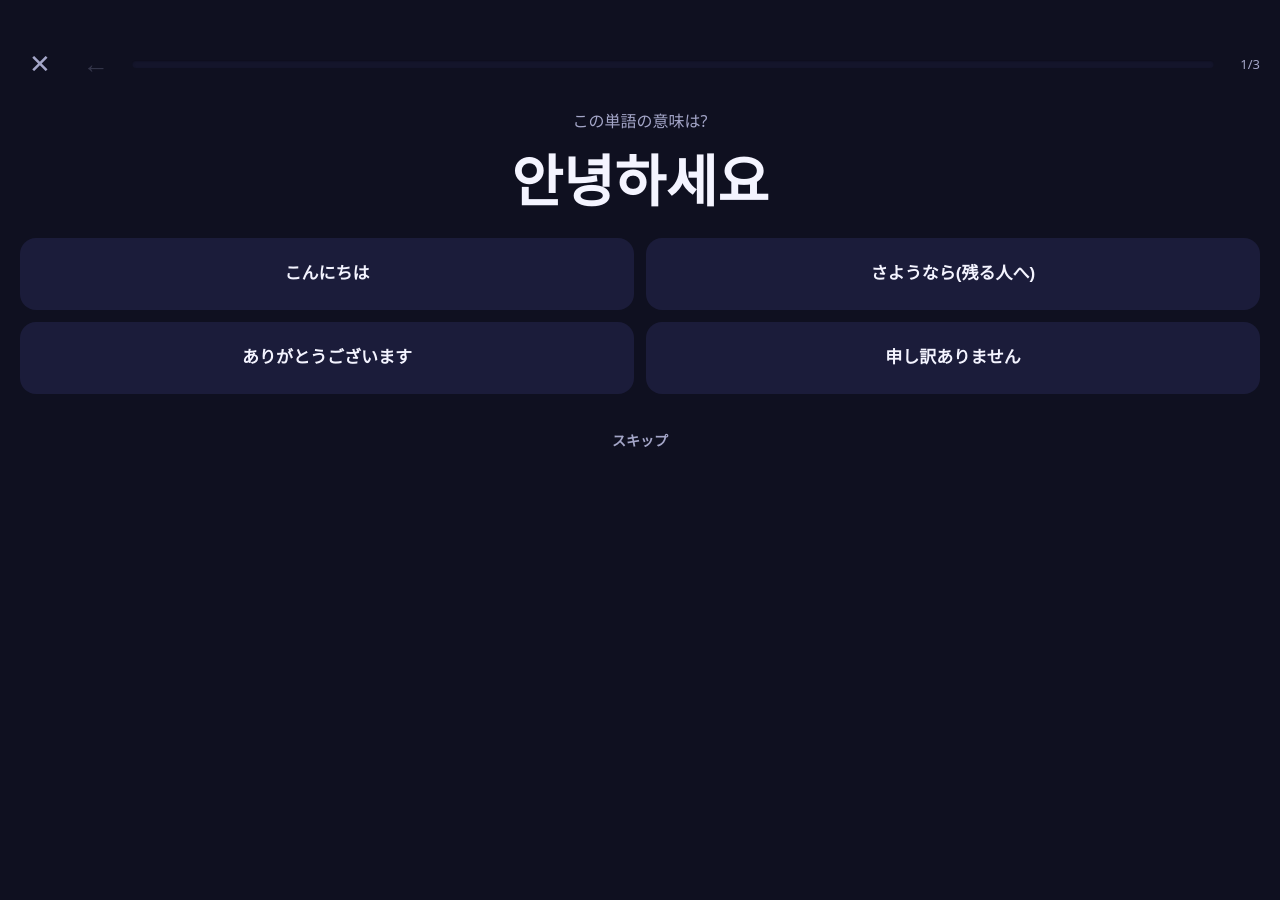
it: Lesson keyboard control › Esc opens the exit confirmation after progress
Click the text "こんにちは". click: [327, 274]
box: x1=284 y1=262 x2=370 y2=285
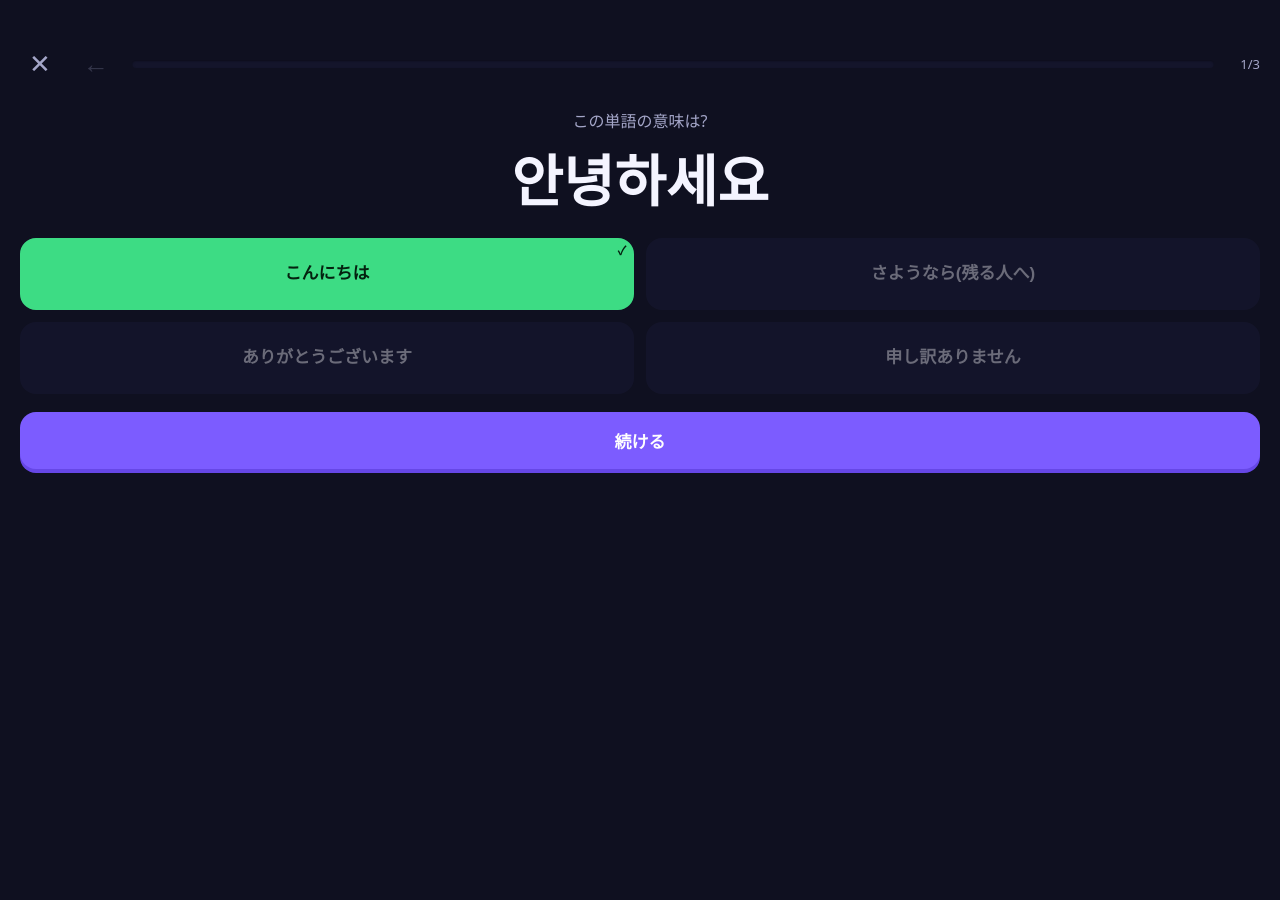
Press Enter
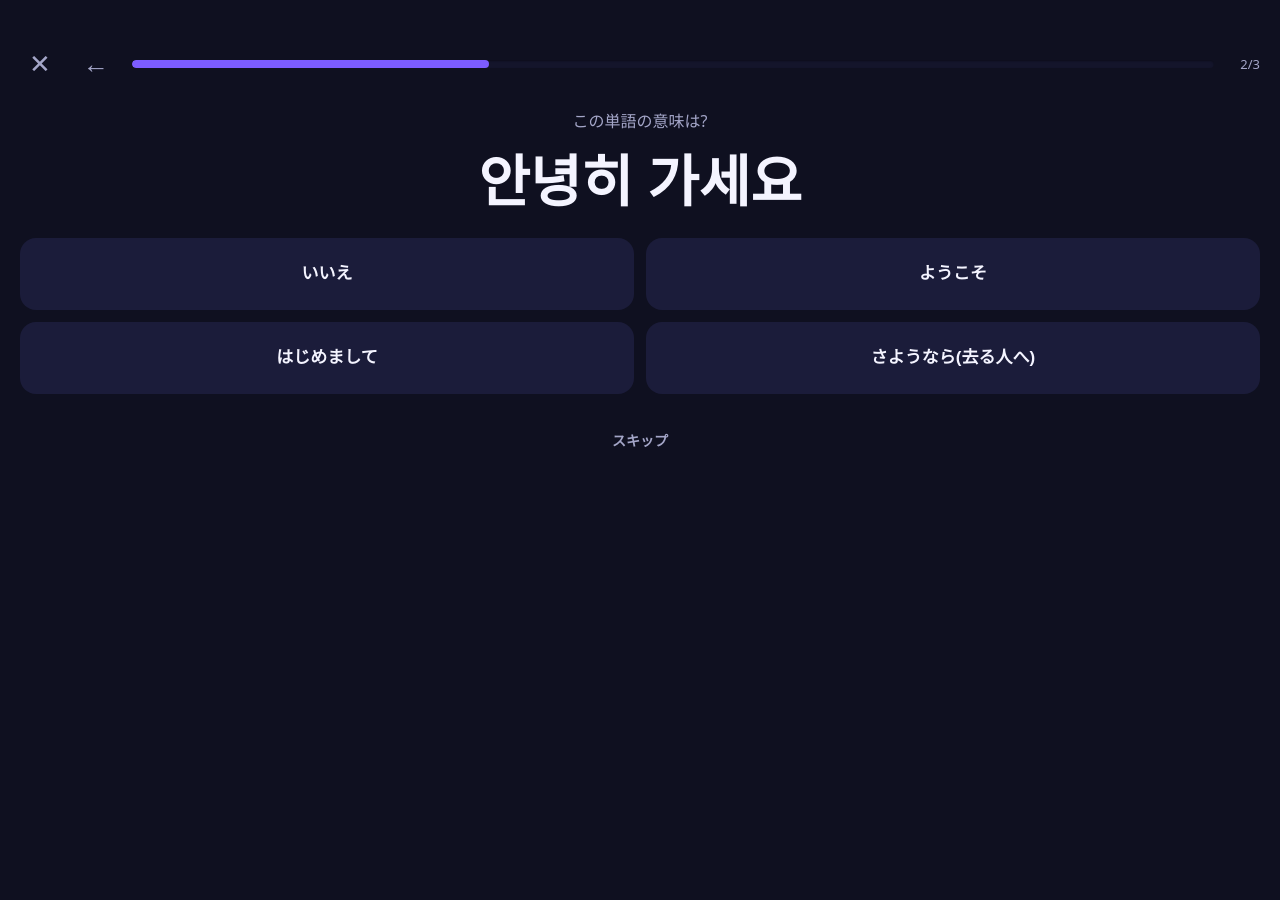
Press Escape
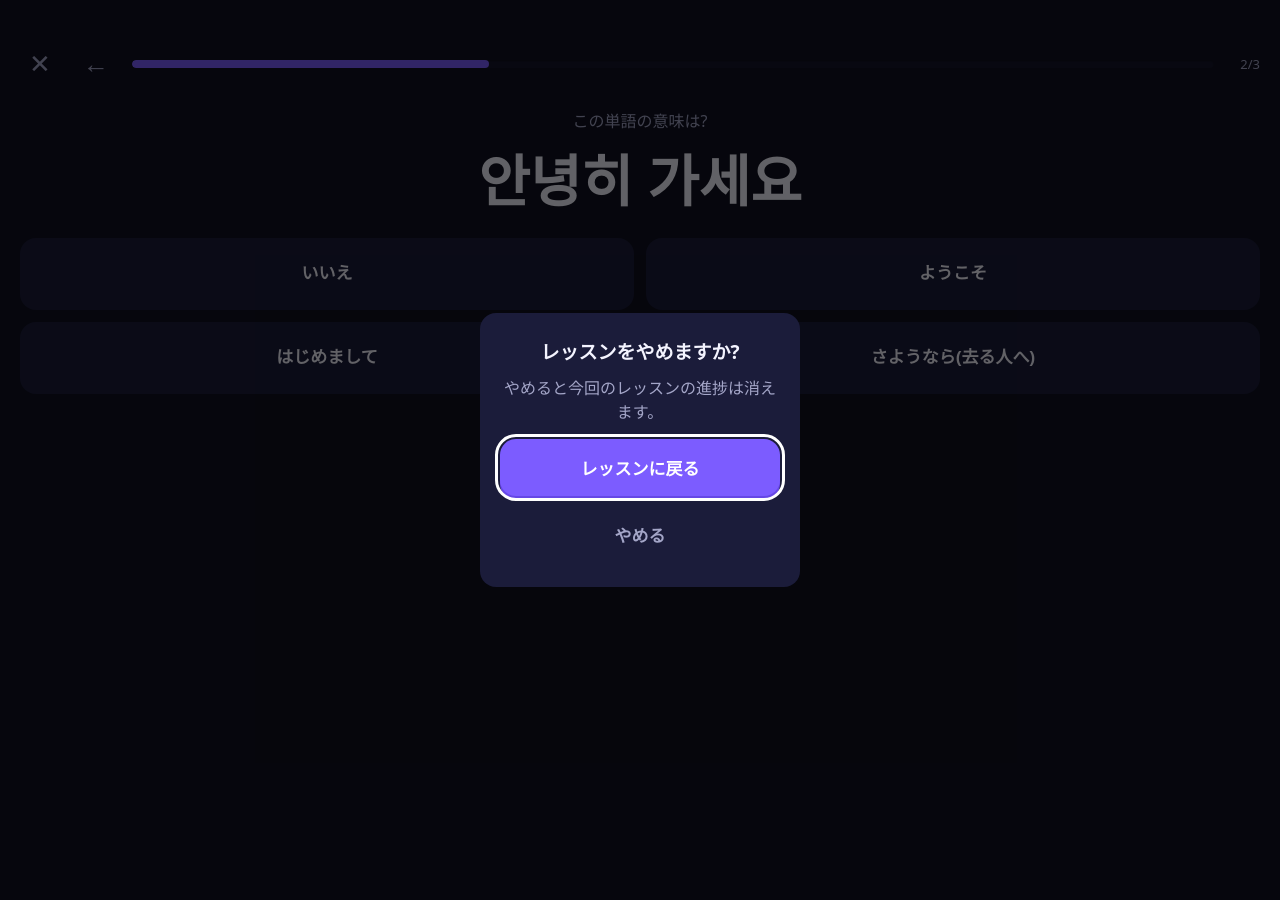
Expected: the text "やめると今回のレッスンの進捗は消えます。" is shown, x1=500 y1=375 x2=780 y2=423
